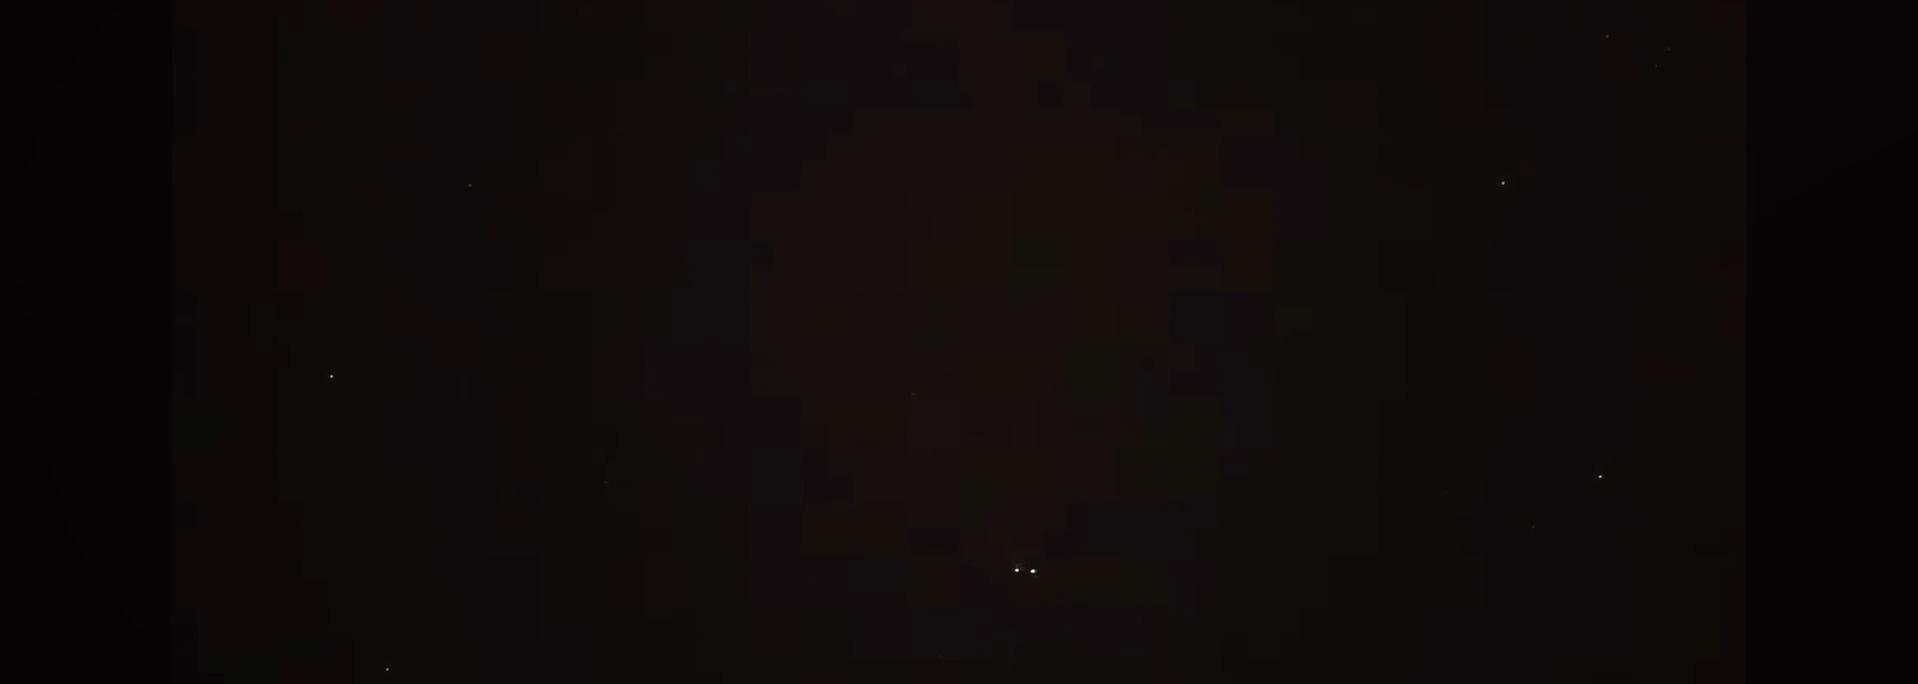Plane: (997, 549, 1048, 589)
